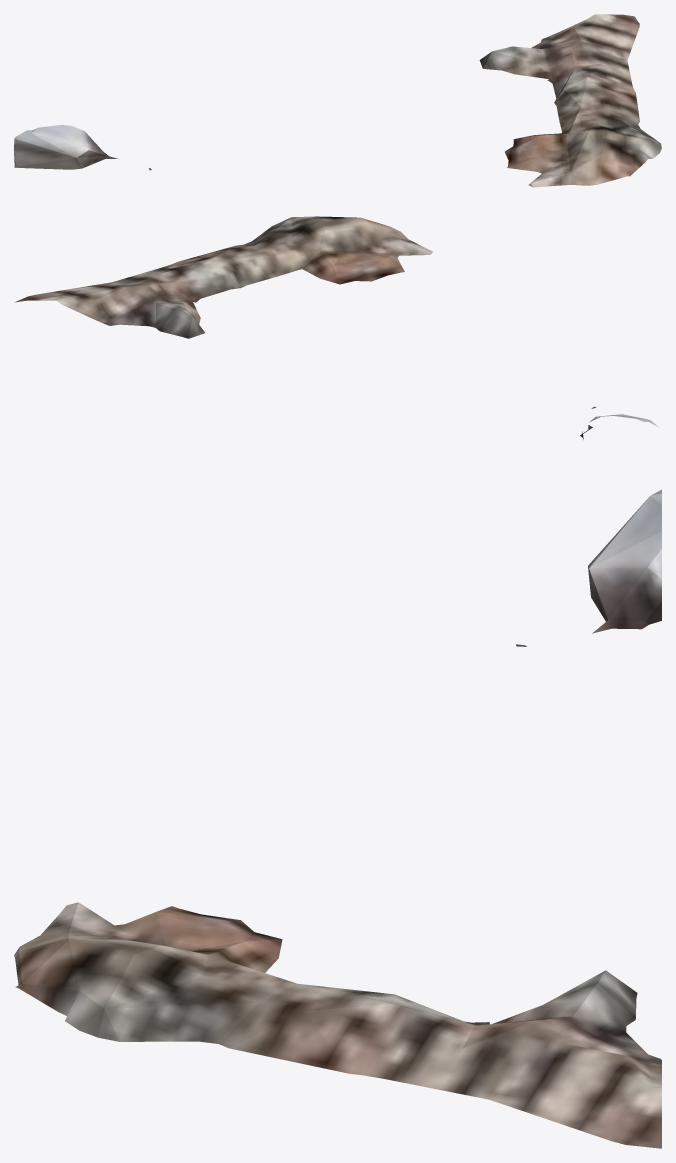
3 renders of one model, top to bottom at view 1: azimuth 30°, elevation 25°; view 2: azimuth 150°, elevation 25°; view 3: azimuth 270°, elevation 25°, orthographic. The views are drawn at different scales.
Size of the model in its own units: 3.98 by 0.2088 by 1.82.
Materials: 1 (1 with a texture image).
